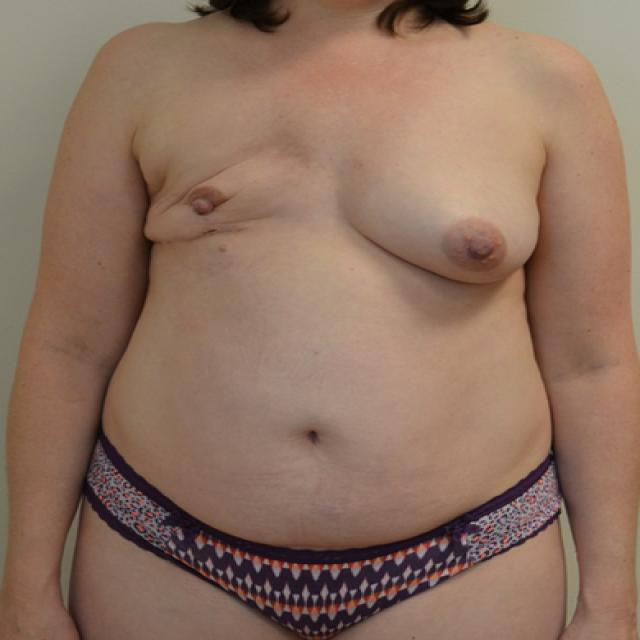Seno herido: (124, 134, 323, 294)
Seno ileso: (339, 136, 549, 294)
